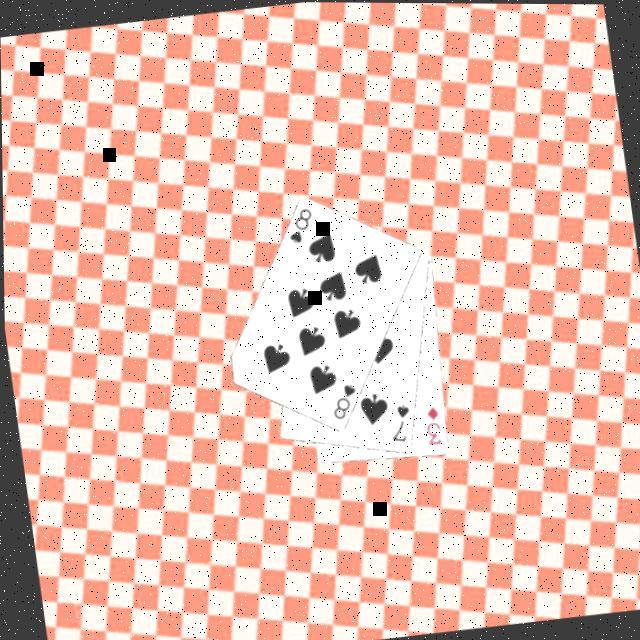3D: (419, 401, 445, 446)
7S: (384, 399, 416, 444)
8S: (282, 202, 319, 246), (325, 378, 362, 421)
